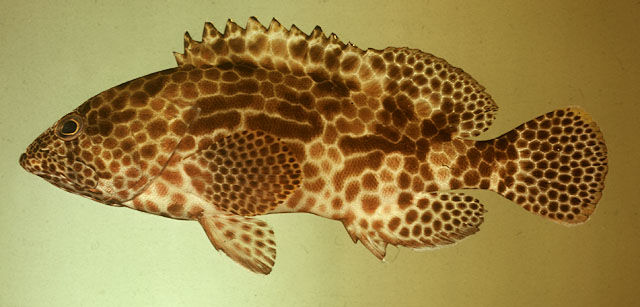fish: (19, 12, 610, 276)
